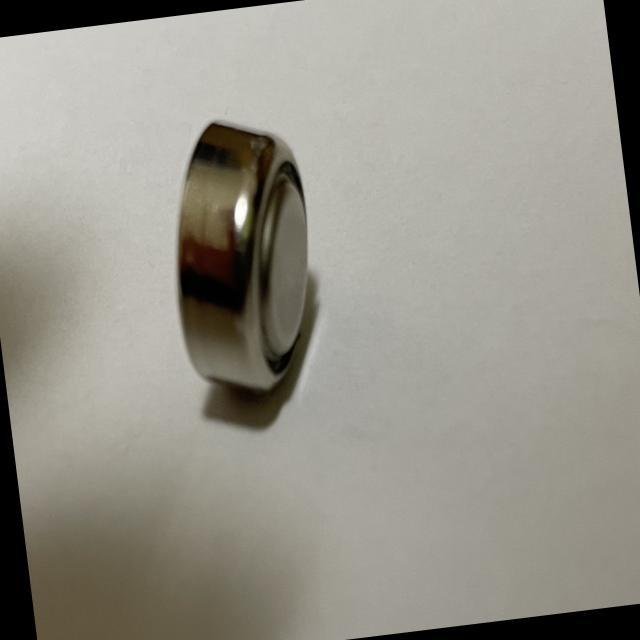COIN: (156, 108, 328, 408)
